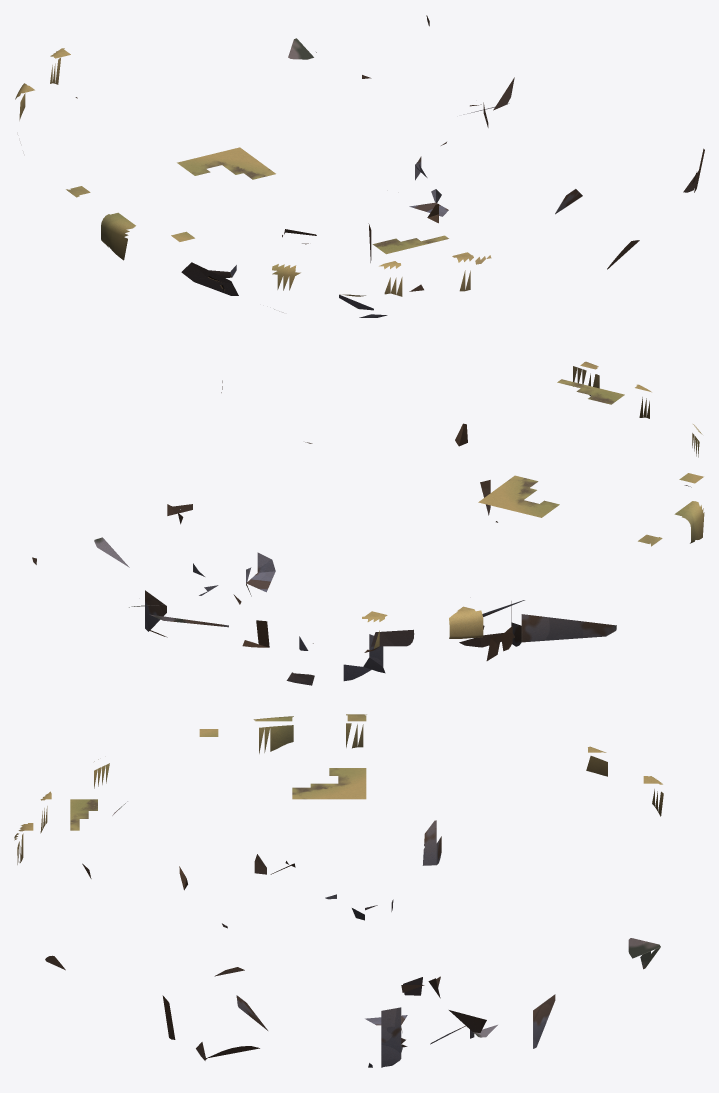
3 views of the same model, one above another, from view 1: azimuth 30°, elevation 25°; view 2: azimuth 150°, elevation 25°; view 3: azimuth 270°, elevation 25° (orthographic).
Parts seen in each view (by area): view 1: Grass_-3_-1_0, Grass_-5_-2_0_010, Dirt_-3_-1_-1_001, Grass_-2_-4_0; view 2: Columns_-4_0_-1_010, Grass_-3_-1_0, Grass_-4_3_0_000, Columns_1_0_-2_001, Grass_-5_-2_0_010, Grass_-2_-4_0, Dirt_-2_1_-1_010, Columns_1_2_-1_101; view 3: Grass_-3_-1_0, Columns_2_0_-2_001, Grass_-5_-2_0_010, Columns_-4_0_-1_110, Grass_-2_-4_0, Columns_1_2_-1_101, Columns_1_3_-1_011.
Part boxes in pixels (x1,y1,x2,y2): Grass_-3_-1_0: [177, 147, 275, 179]; Grass_-5_-2_0_010: [101, 212, 135, 260]; Dirt_-3_-1_-1_001: [181, 262, 238, 295]; Grass_-2_-4_0: [372, 235, 448, 254]; Columns_-4_0_-1_010: [521, 614, 616, 642]; Grass_-3_-1_0: [478, 475, 559, 517]; Grass_-4_3_0_000: [449, 606, 483, 638]; Columns_1_0_-2_001: [246, 552, 275, 596]; Grass_-5_-2_0_010: [674, 501, 704, 543]; Grass_-2_-4_0: [557, 379, 624, 404]; Dirt_-2_1_-1_010: [371, 629, 414, 646]; Columns_1_2_-1_101: [145, 590, 166, 631]; Grass_-3_-1_0: [292, 768, 366, 799]; Columns_2_0_-2_001: [381, 1007, 407, 1067]; Grass_-5_-2_0_010: [253, 716, 293, 753]; Columns_-4_0_-1_110: [422, 820, 441, 865]; Grass_-2_-4_0: [70, 799, 97, 830]; Columns_1_2_-1_101: [533, 994, 555, 1048]; Columns_1_3_-1_011: [628, 938, 660, 969].
Size of the model in its own units: 599 by 203 by 598.
67 materials, 67 textured.
